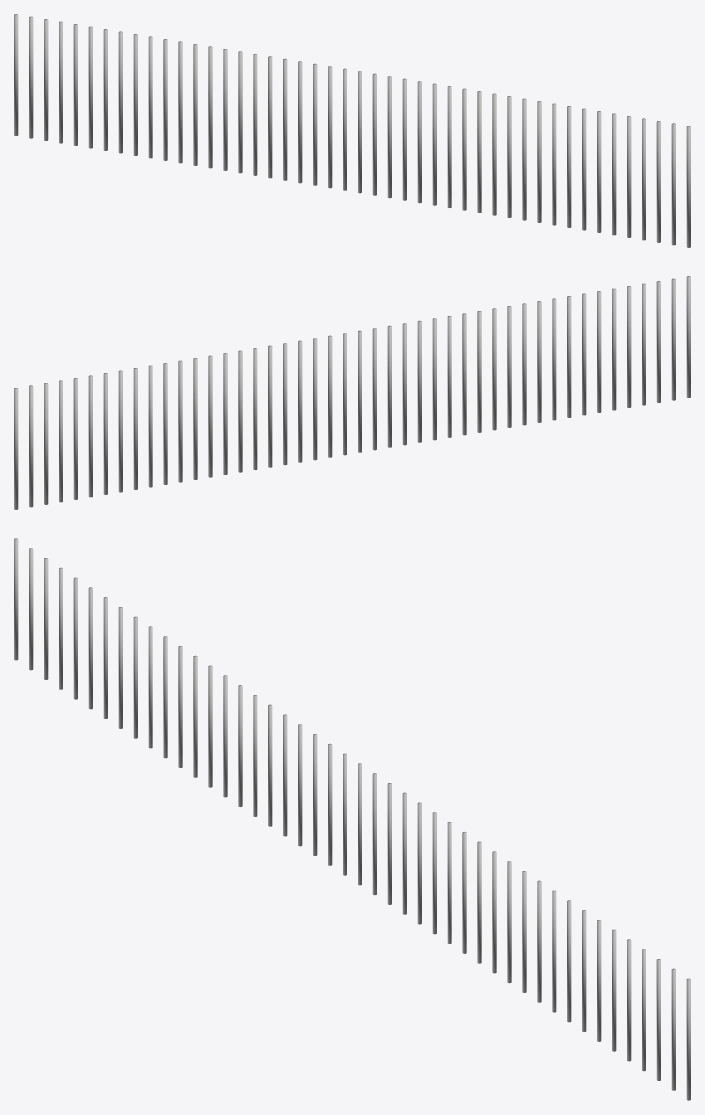
Rendered from StairsShorterRailing_RailingLowPipes.FBX.
The picture shows the model from 3 angles, top to bottom: view 1: azimuth 30°, elevation 25°; view 2: azimuth 150°, elevation 25°; view 3: azimuth 330°, elevation 25°; orthographic projection.
Visible parts, largest first — view 1: StairsShorterRailing_RailingLowPipes; view 2: StairsShorterRailing_RailingLowPipes; view 3: StairsShorterRailing_RailingLowPipes.
Boxes of the visible parts, box(x1,y1,x2,y2) form: StairsShorterRailing_RailingLowPipes: box(14, 14, 690, 247); StairsShorterRailing_RailingLowPipes: box(14, 276, 690, 509); StairsShorterRailing_RailingLowPipes: box(14, 538, 690, 1100).
Size of the model in its own units: 543 by 3 by 304.
